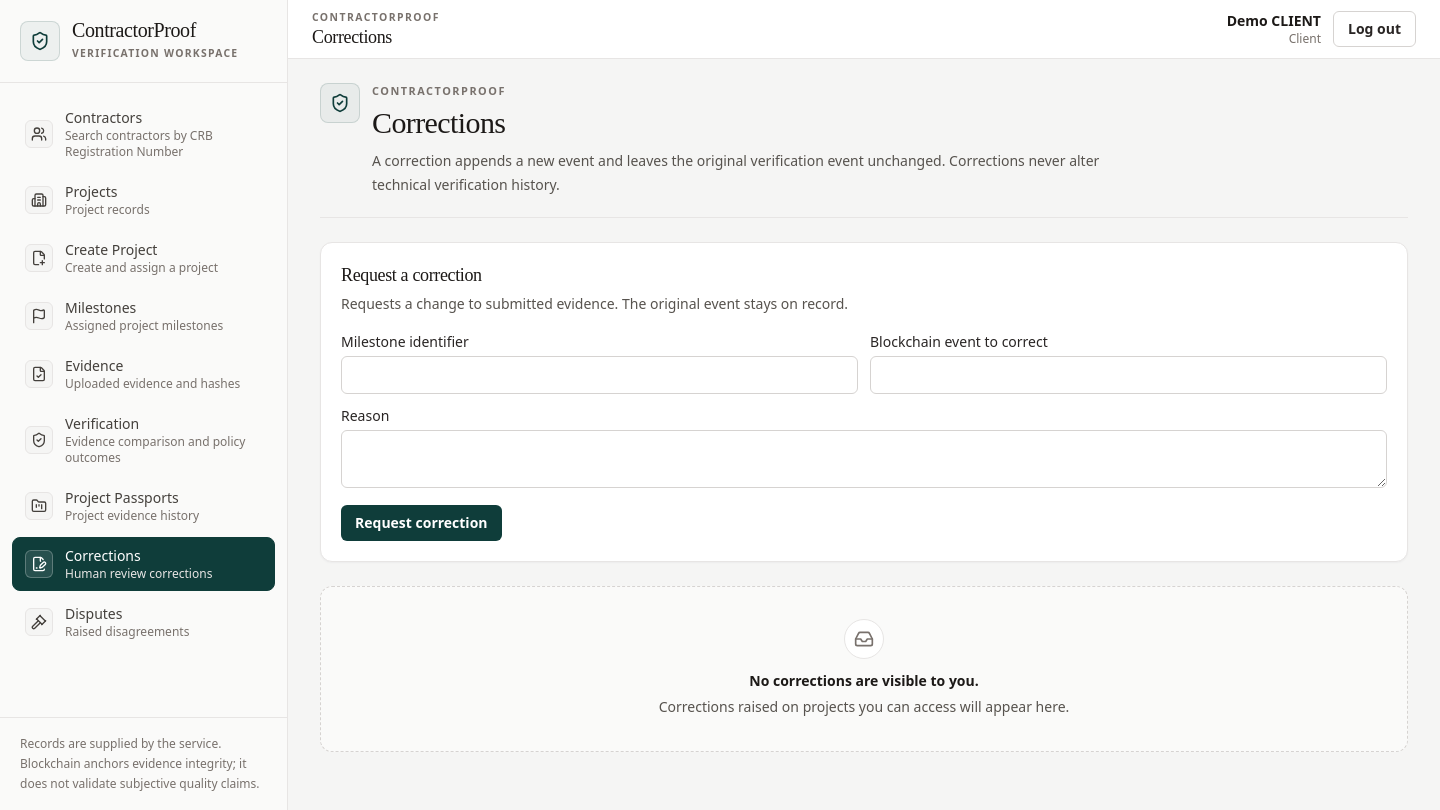
Test case: human review workflow pages › requests a correction through the form
Expected: the button "Request correction" is shown, [341,505,502,541]
In the field labelled "Milestone identifier": {"x": 600, "y": 375} [341,356,858,394], type "22222222-2222-4222-8222-222222222222"
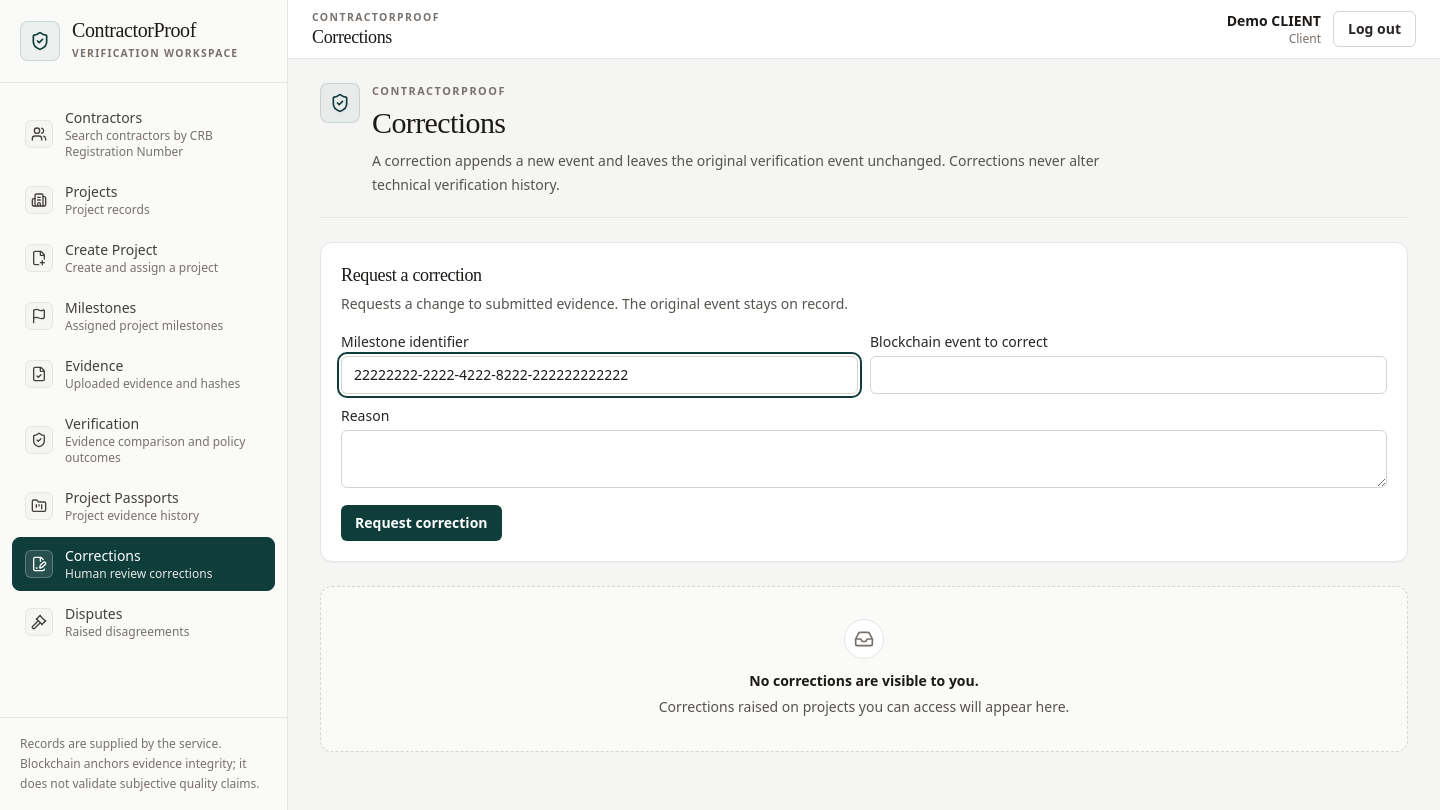
In the field labelled "Blockchain event to correct": {"x": 1128, "y": 375} [870,356,1387,394], type "33333333-3333-4333-8333-333333333333"
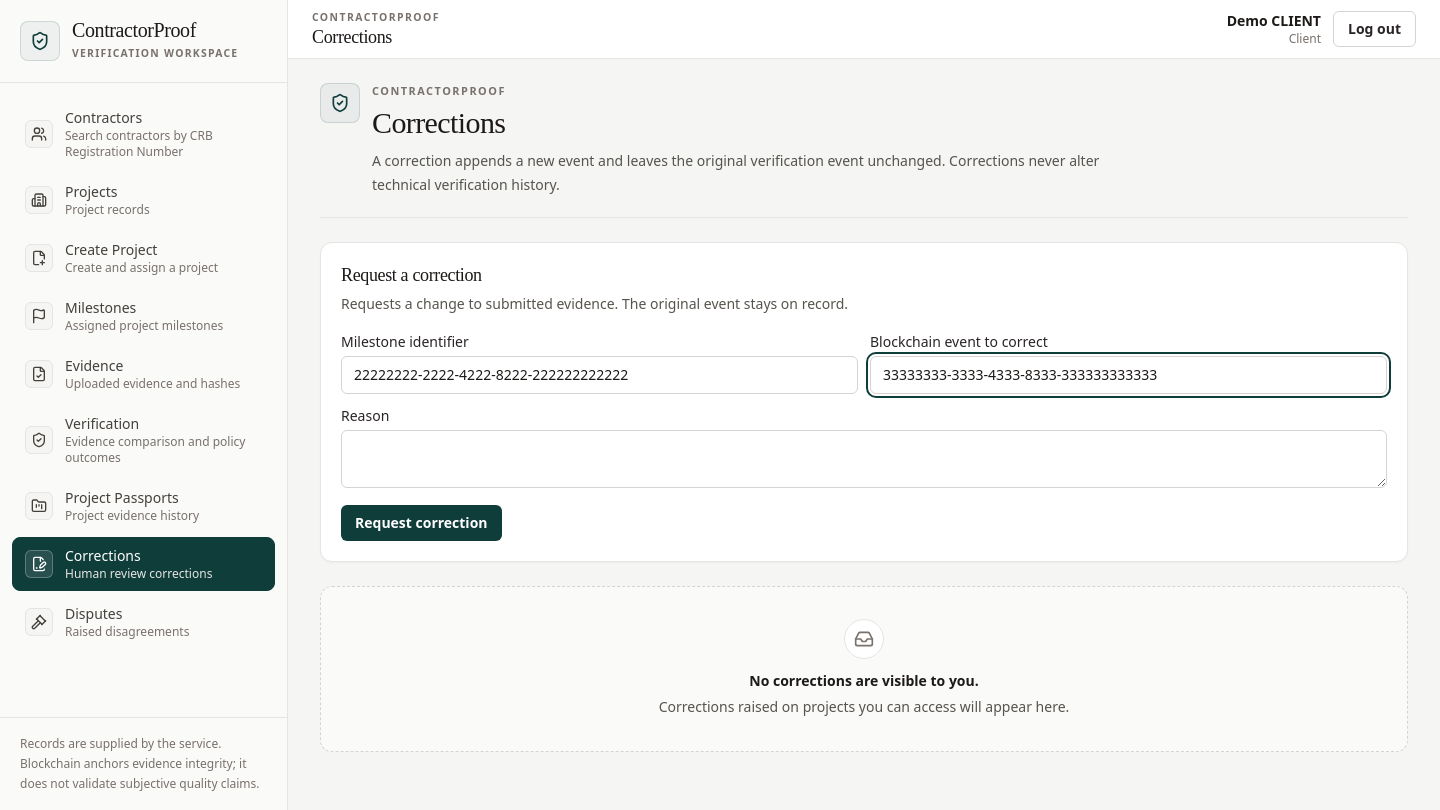
In the text box labelled "Reason": {"x": 864, "y": 459} [341,430,1387,488], type "Photo does not show the completed pour."
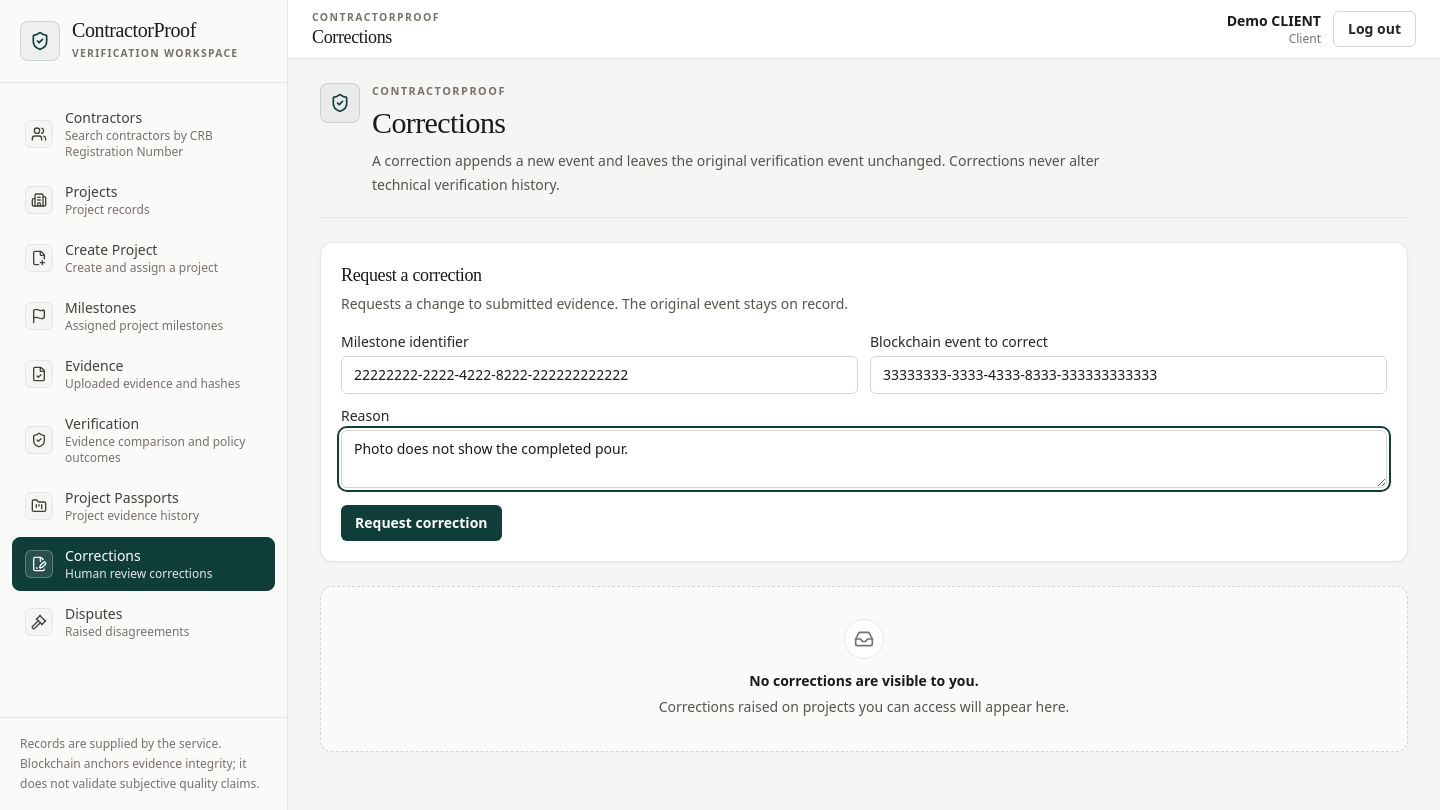
Click the button "Request correction": {"x": 421, "y": 523} [341,505,502,541]
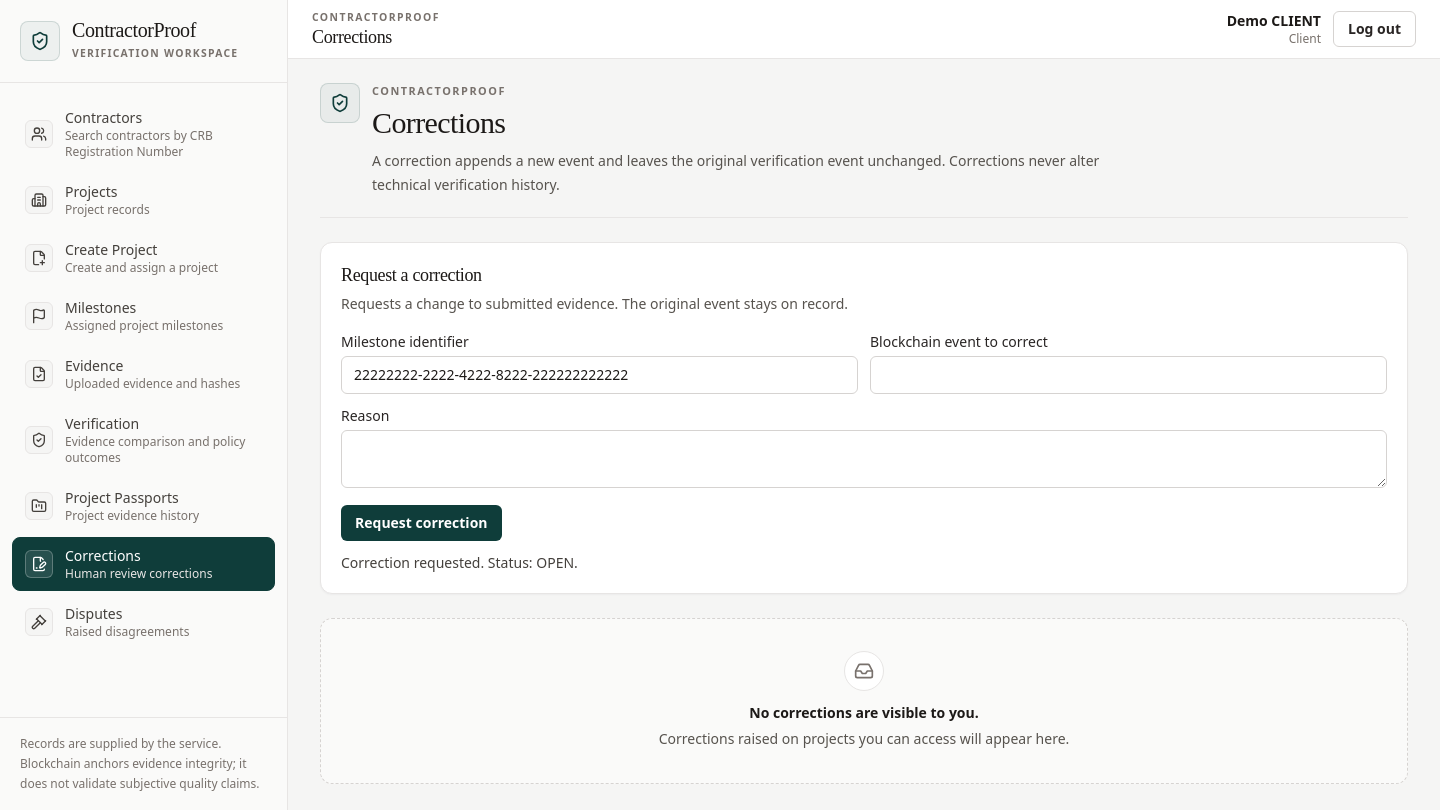
Now the text "Correction requested. Status: OPEN." is shown, box [341,553,578,572]
